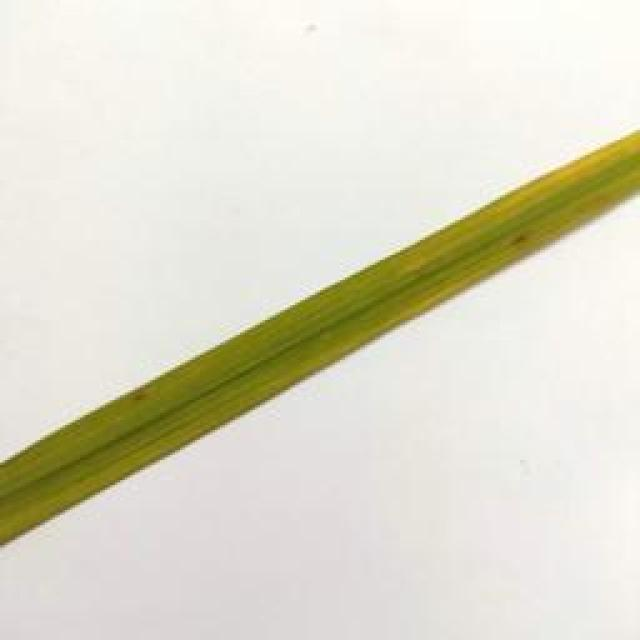Bacterial_Blight: (393, 115, 640, 282)
Brown_Spot: (123, 388, 158, 416), (507, 229, 533, 257)
